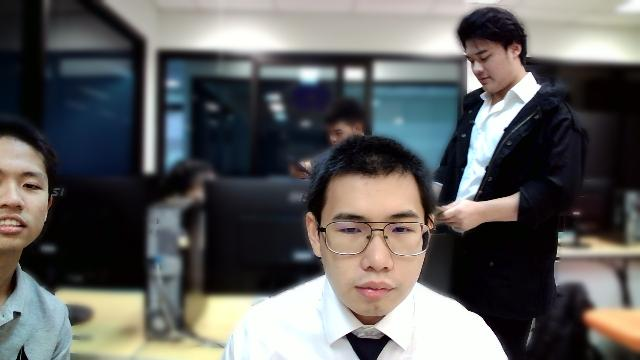fokus: (305, 148, 436, 318)
